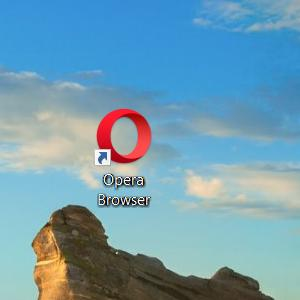opera: (94, 109, 152, 167)
